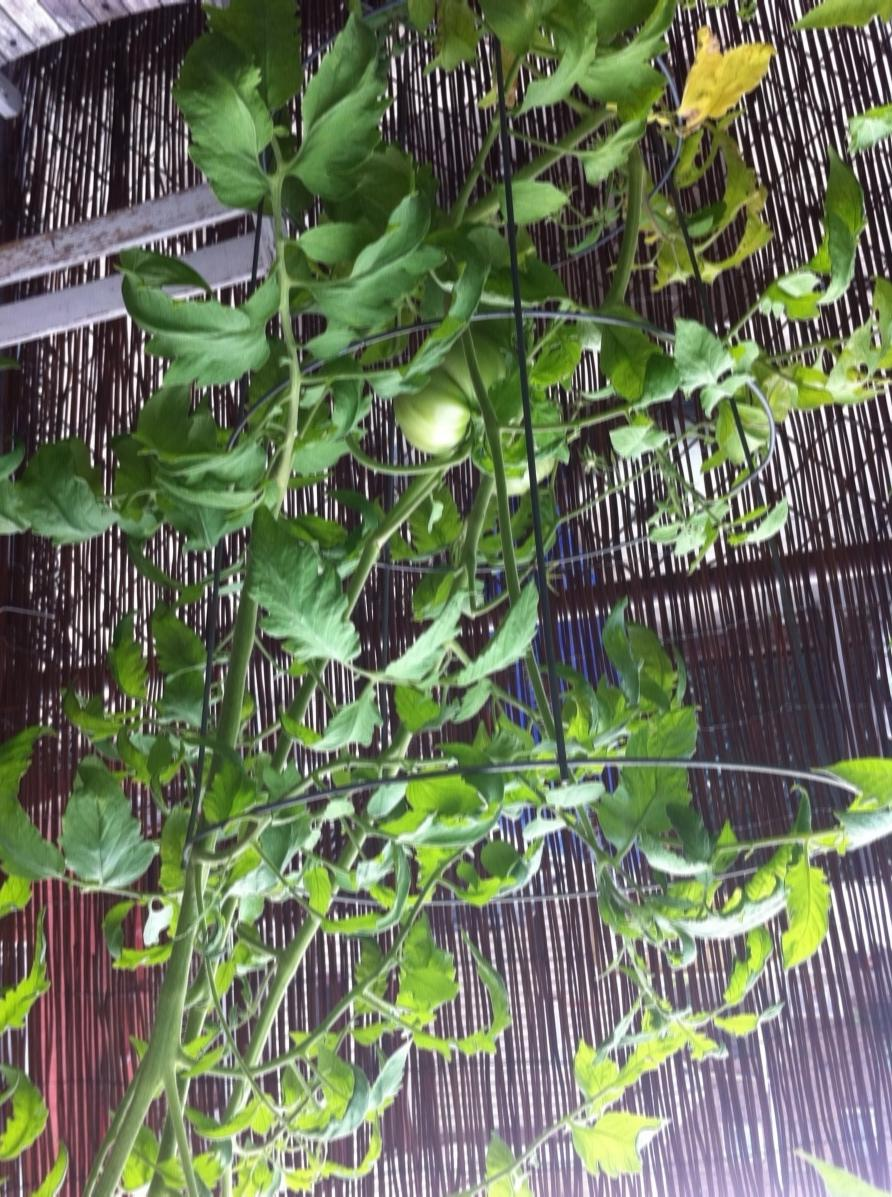Tomato leaf: (242, 522, 374, 677), (59, 729, 166, 890), (612, 692, 716, 848), (438, 575, 542, 695), (180, 29, 274, 161), (125, 286, 265, 373), (299, 78, 393, 177)
